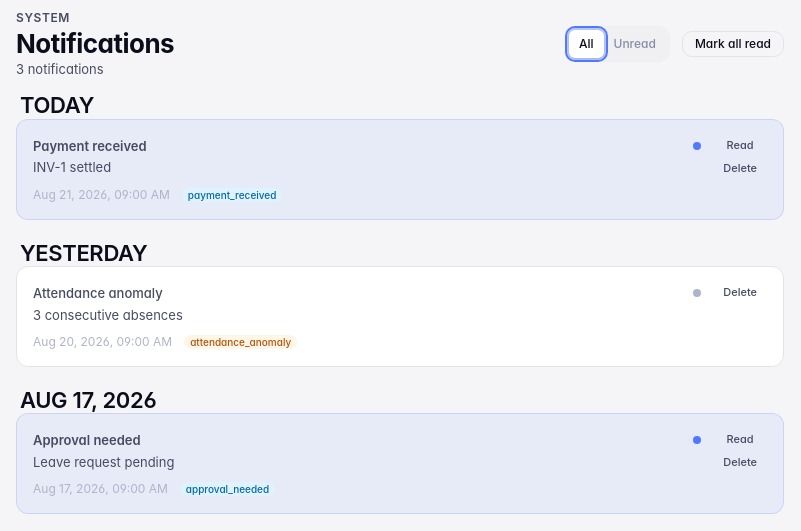
it: Notifications page — polish (skeletons, grouping, semantics) › deletes a notification — the row leaves the list
The image size is (801, 531).
Expected: the text "Payment received" is shown, [33,136,147,157]
Click the 1st button "Delete" at (740, 168), box [713,159,767,178]
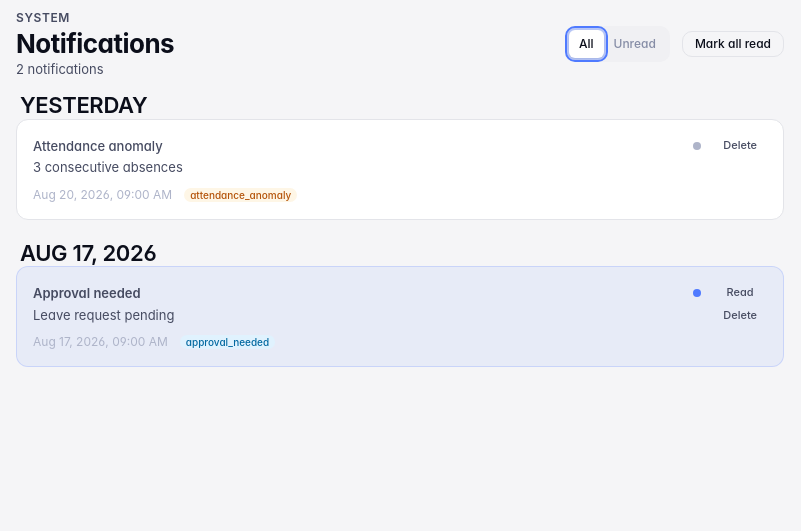
Expected: the text "Attendance anomaly" is shown, [33,136,163,157]
Now the button "Payment received" is gone
